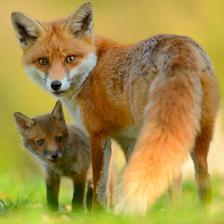fox: (9, 0, 224, 208), (13, 104, 90, 206)
